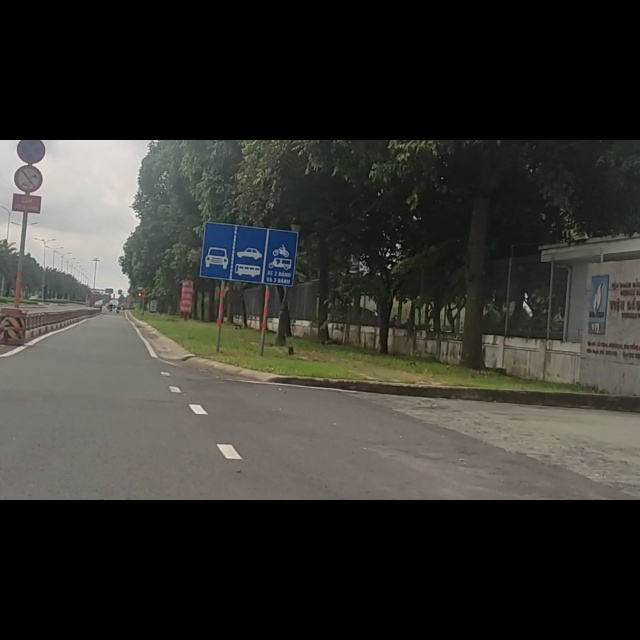bien_chi_dan: (200, 147, 298, 263), (13, 40, 45, 96)
